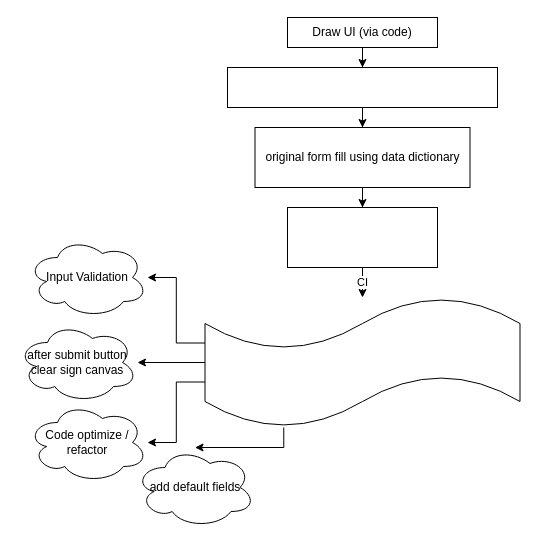
This 538x545 diagram has some shape labels left out. Each missing label, with the centre of its shape:
"Map Data into data dictionary with placeholders" belongs at point (362, 87).
"Text Highlights / Sections / Data Validation" belongs at point (362, 362).
"upload to 1drive via API" belongs at point (362, 237).
